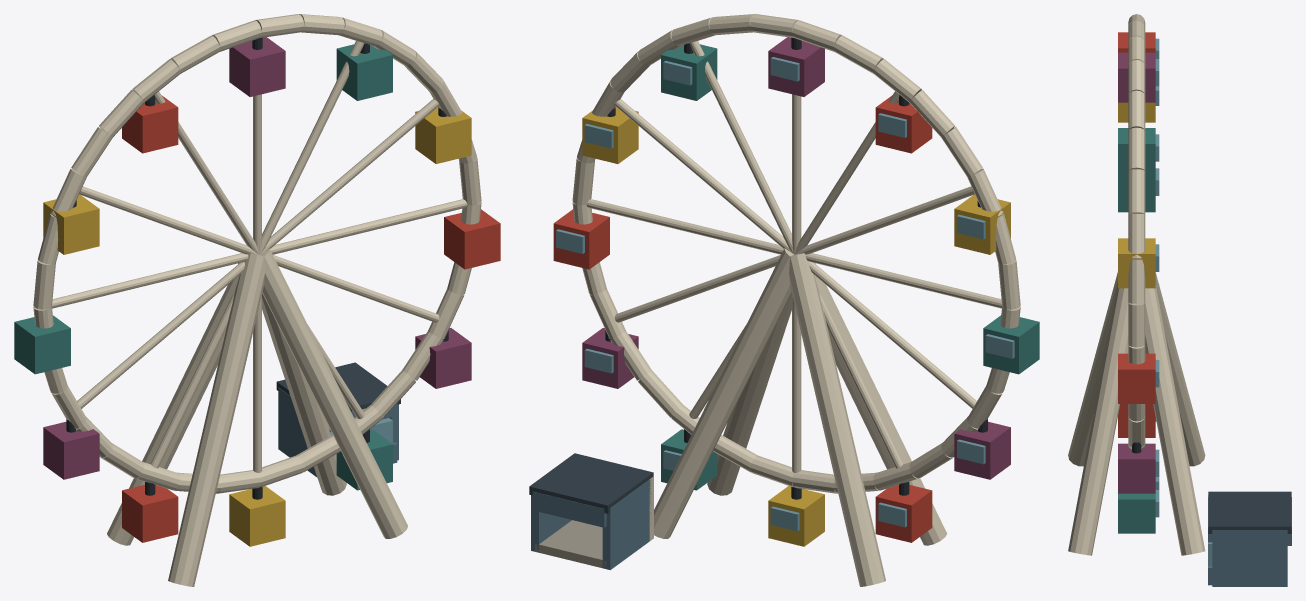
File: great-squeal.glb
3 views of the same model, side by side, from view 1: azimuth 30°, elevation 25°; view 2: azimuth 150°, elevation 25°; view 3: azimuth 270°, elevation 25° (orthographic). The views are drawn at different scales.
Parts seen in each view (by area): view 1: great-squeal; view 2: great-squeal; view 3: great-squeal.
Boxes of the visible parts, bbox=[...] form: great-squeal: bbox=[14, 14, 500, 586]; great-squeal: bbox=[529, 14, 1039, 586]; great-squeal: bbox=[1068, 14, 1291, 586].
Size of the model in its own units: 26 by 27.71 by 11.86.
